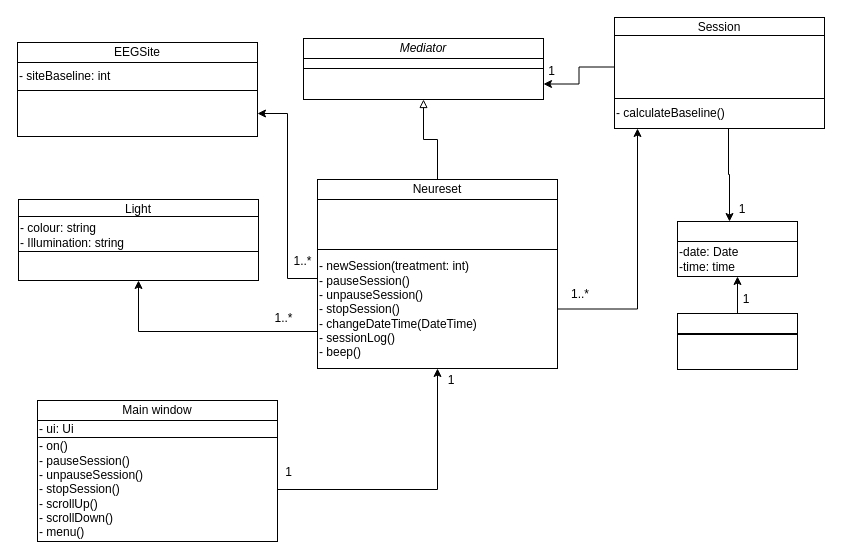
Some shapes in this 842 by 559 pixel diagram are drawn without their labels. Each missing label, with the centre of its shape:
"- calculateSiteBaseline() - applyTreatment()" goes at pixel 137 113.
"- changeLight(lighting: string)" goes at pixel 138 265.
"- sessionLog : Session[] - beeping: bool - sites: EEGSite[]" goes at pixel 437 224.
"- startBaseline: int - endBaseline: int - progress: int - dateTime: DateTime" goes at pixel 719 66.
"DateTime" goes at pixel 737 231.
"hour: int minute: int" goes at pixel 737 352.
"Time" goes at pixel 737 323.
